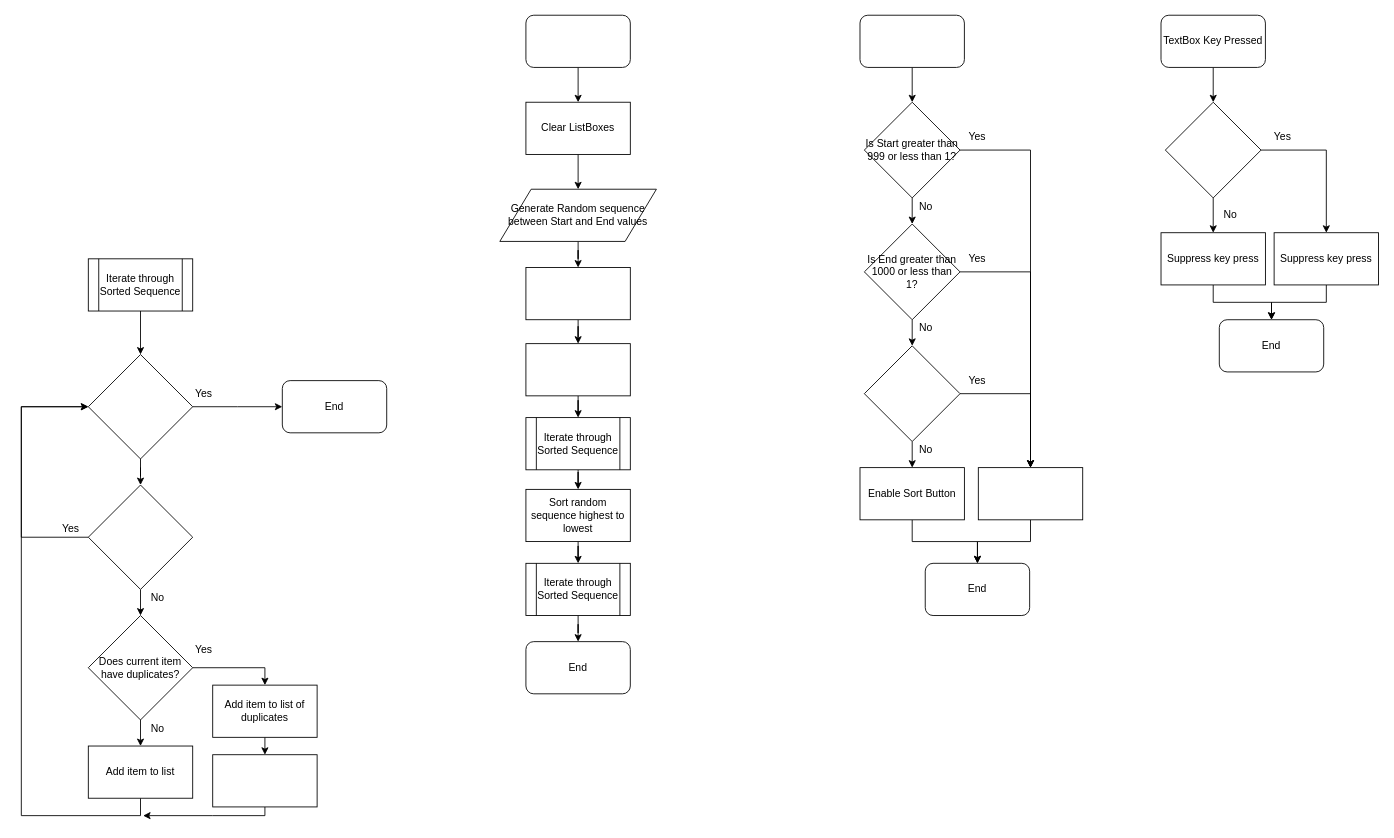
The diagram is 1394 pixels wide and 838 high, and some of its shapes have lost their labels. The centre of each missing label's shape, as x and y in pixels:
"Add each item in random sequence to Original List" goes at [577,293].
"Add item to list including the count of duplicates" goes at [264,780].
"Disable Sort Button" goes at [1030,493].
"Have we iterated through every item in sequence?" goes at [140,406].
"Is Key a number or backspace?" goes at [1212,149].
"Is Start greater than End?" goes at [911,393].
"Is this item included in the list of duplicates?" goes at [140,536].
"Sort Button Pressed" goes at [577,40].
"Sort random sequence lowest to highest" goes at [577,369].
"Text Changed" goes at [911,40].
